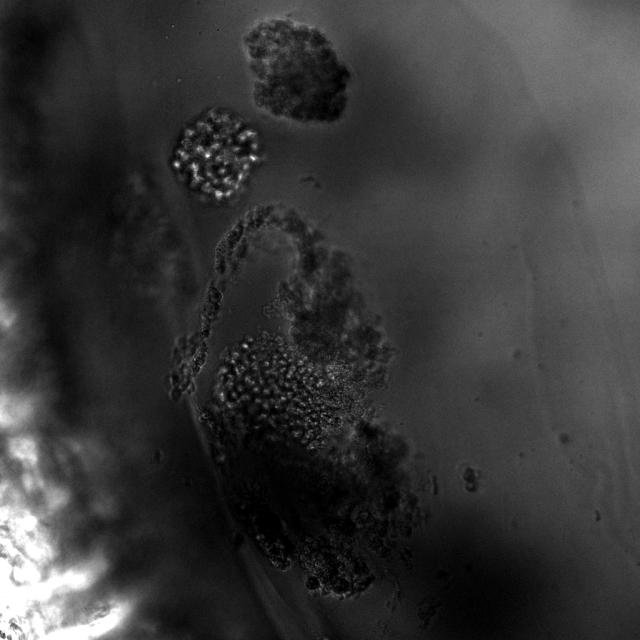organoid: (161, 199, 433, 602), (243, 19, 349, 122), (170, 108, 261, 203)
